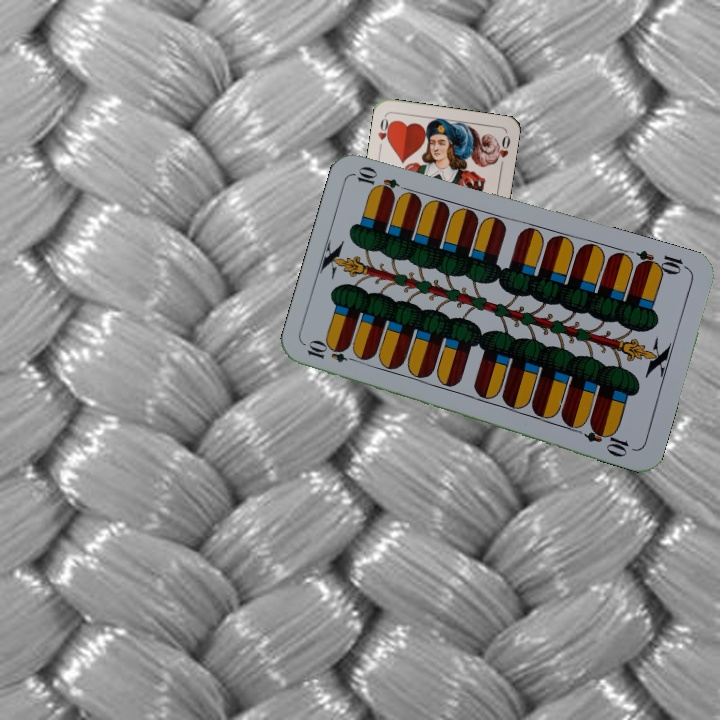E10: (632, 246, 691, 278), (303, 339, 362, 366)
HO: (374, 113, 395, 153)
